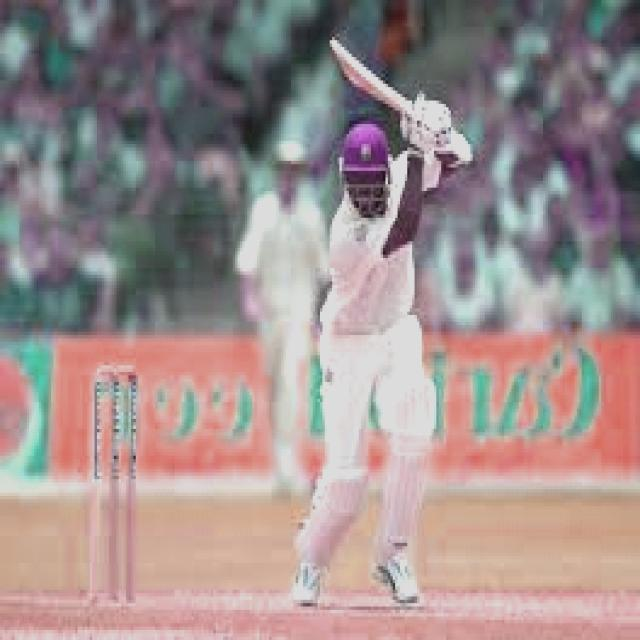bat: (306, 26, 424, 131)
toe: (323, 33, 351, 59)
